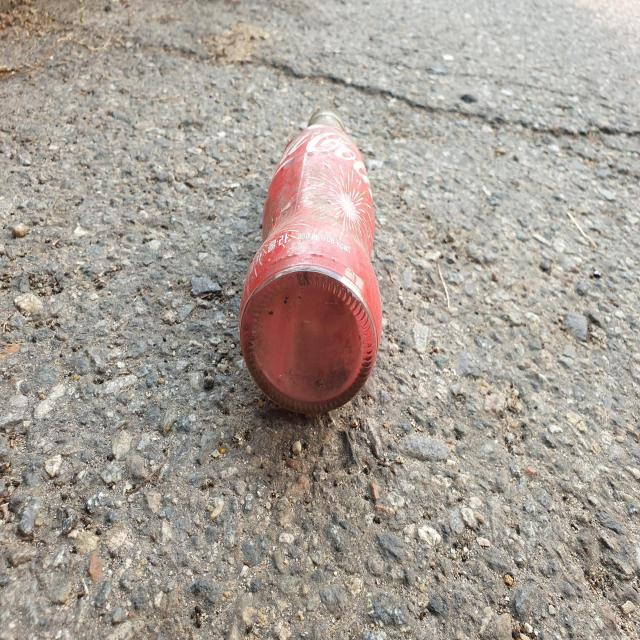glass: (239, 109, 382, 414)
